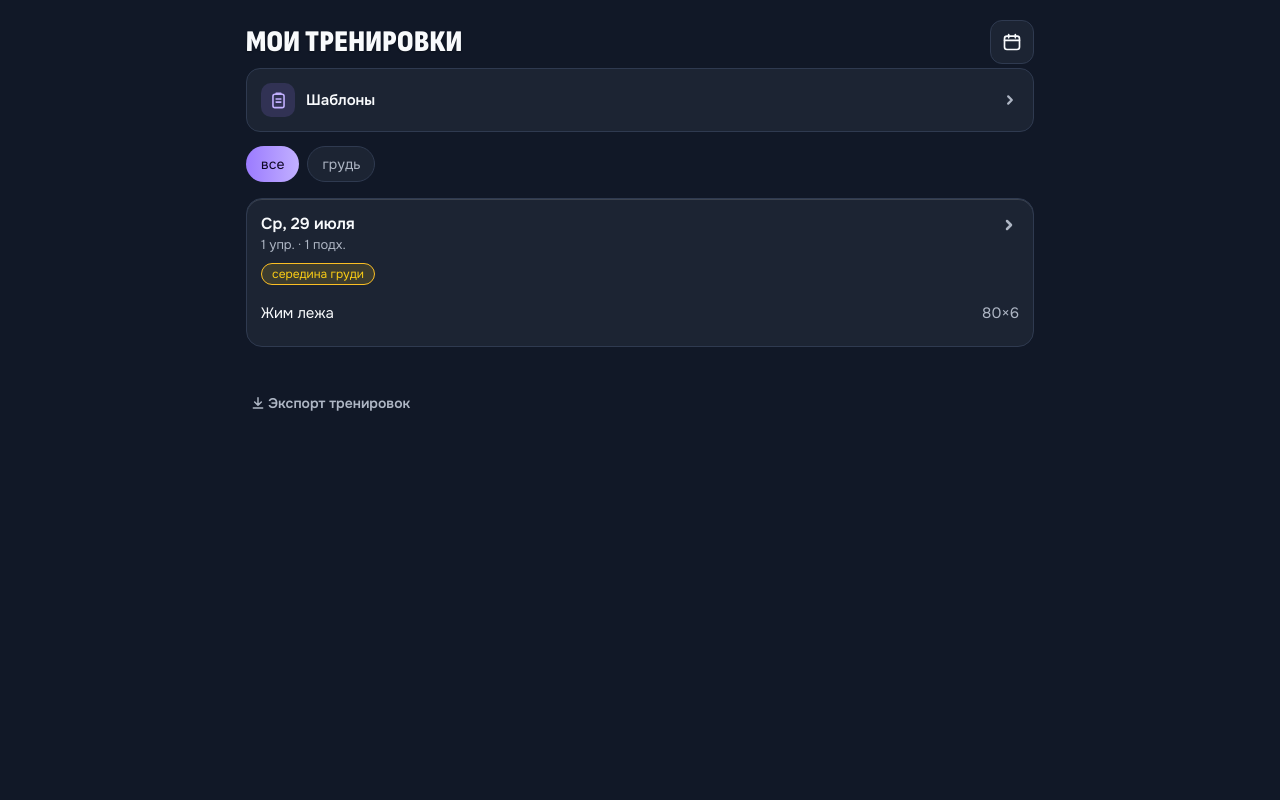
HistoryScreen › иконка календаря открывает лист и закрывает его
This screenshot has width=1280, height=800.
What coordinates should you click on to do the following:
click the button named "Календарь тренировок"
I would click on:
 (1012, 42)
Its box is [990,20,1034,64].
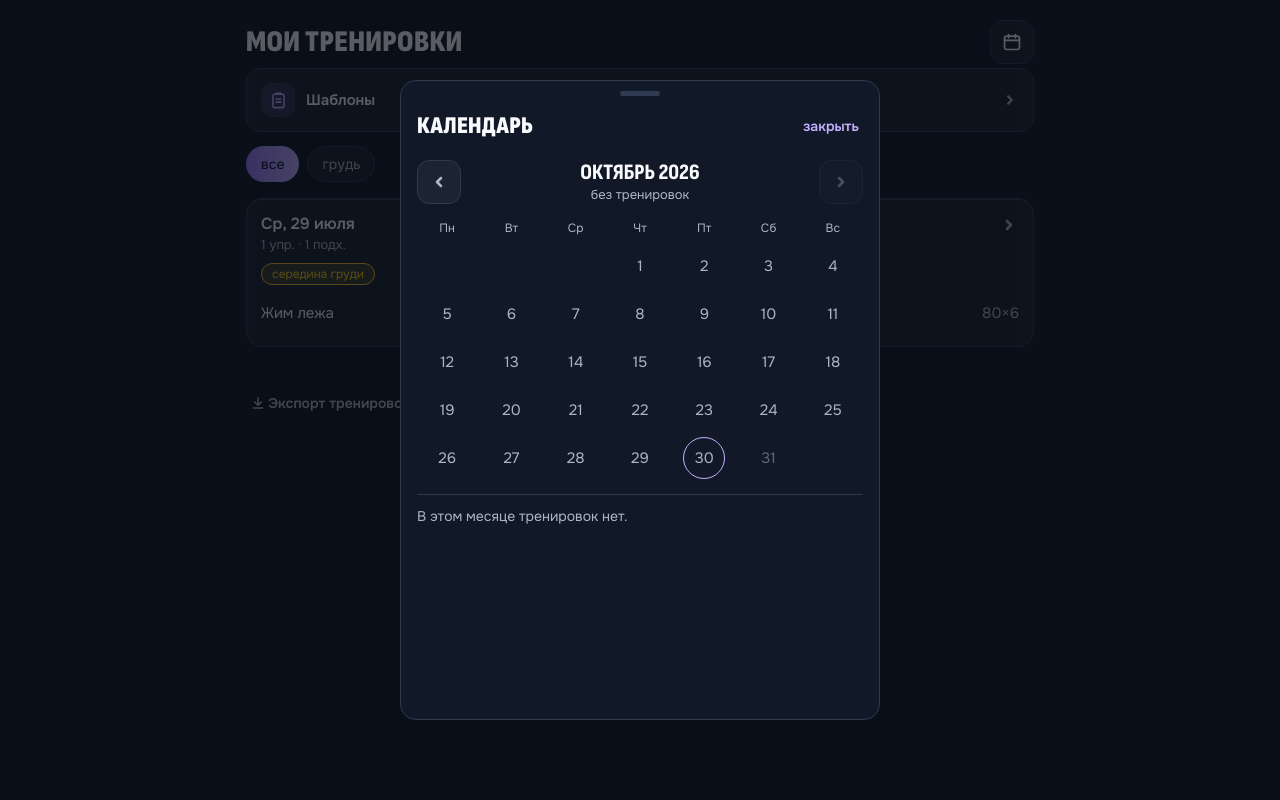
Check: the dialog shows "Календарь", box [417,111,533,140]
What coordinates should you click on to do the following:
click the button "закрыть"
I would click on:
 (831, 126)
Its box is [799,104,863,148].
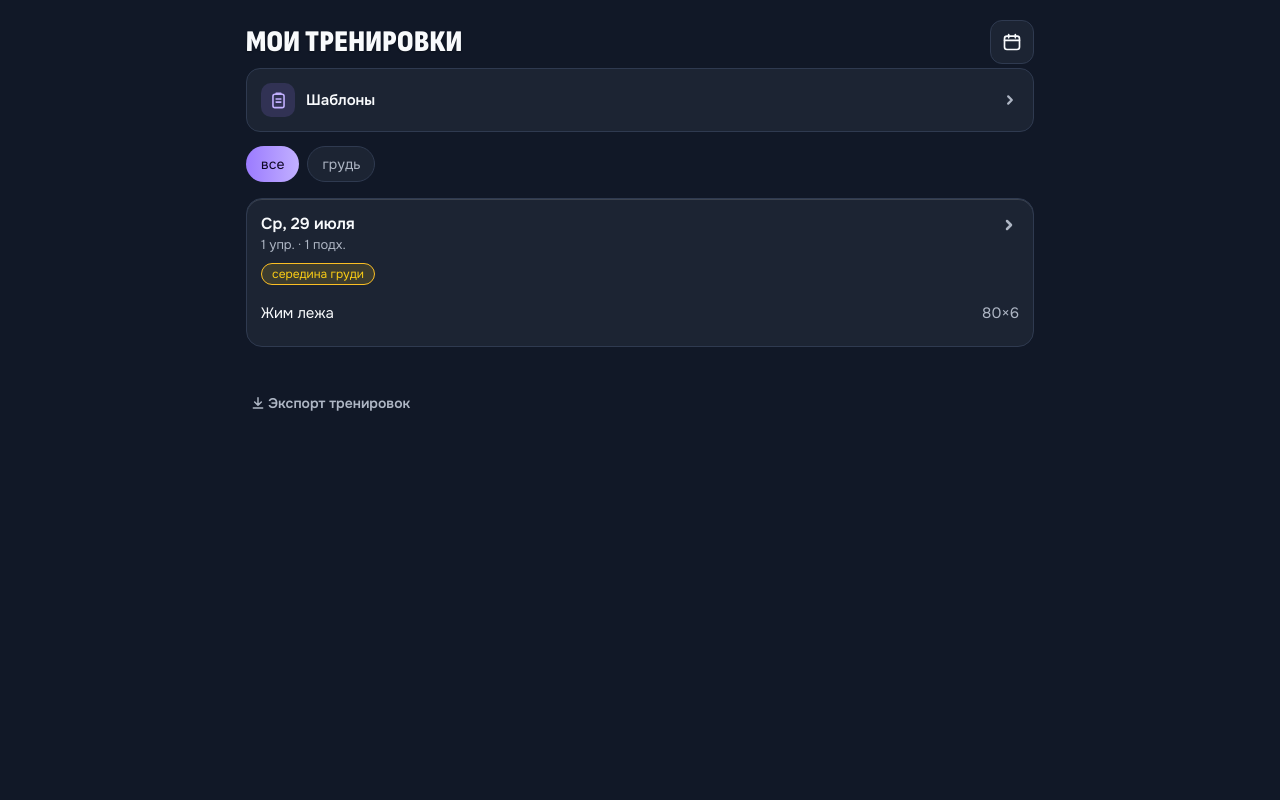
Check: the dialog is gone
